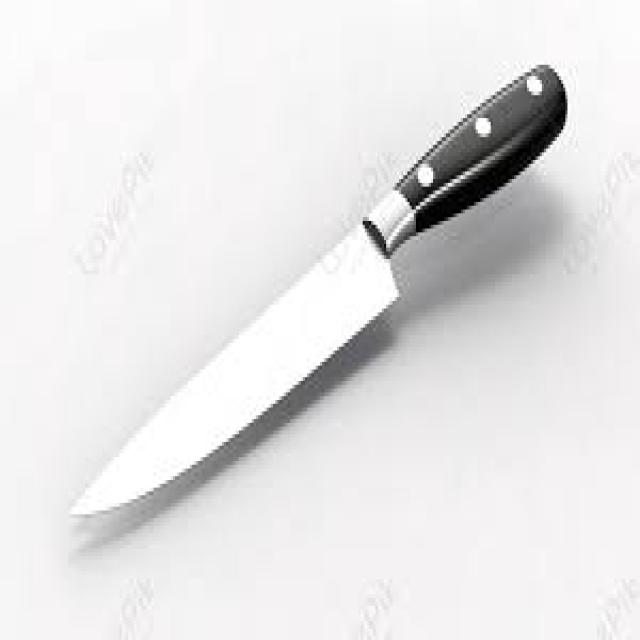Knife: (68, 65, 565, 518)
